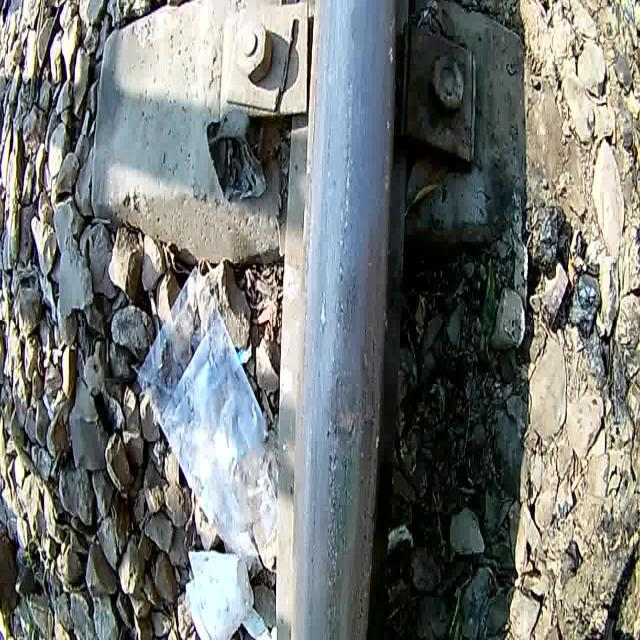Squats: (276, 362, 402, 478), (293, 260, 407, 351)
